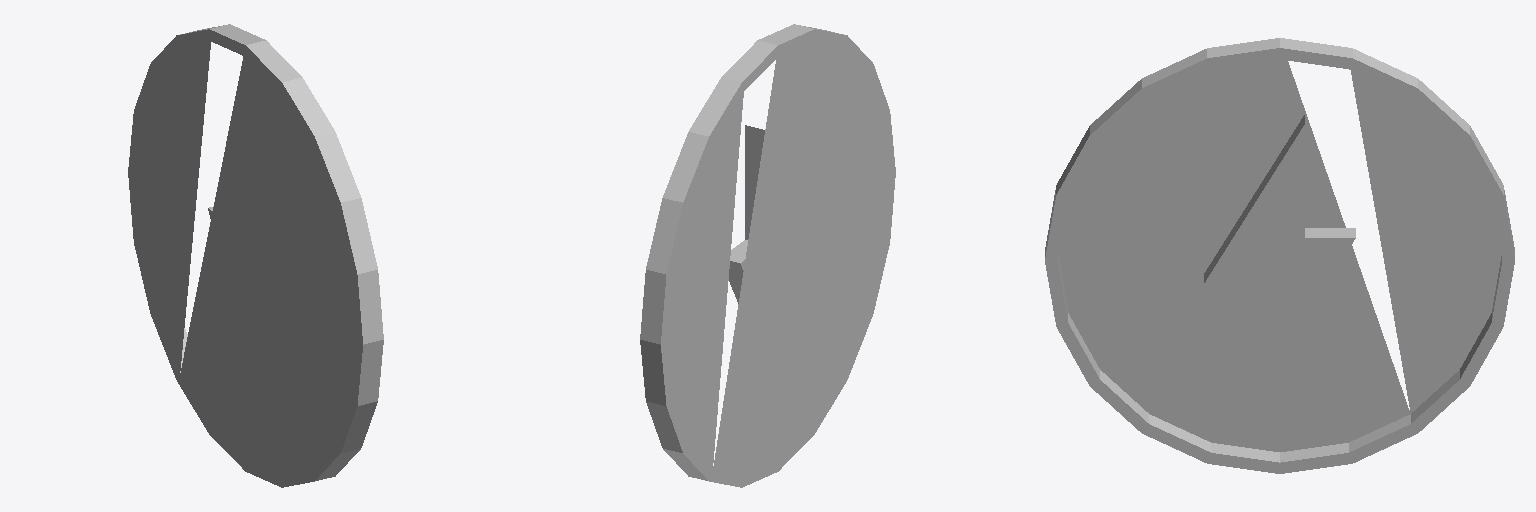
Rendered from fuel.obj.
The picture shows the model from 3 angles: view 1: azimuth 30°, elevation 25°; view 2: azimuth 150°, elevation 25°; view 3: azimuth 270°, elevation 25°; orthographic projection.
Parts seen in each view (by area): view 1: pCylinder17; view 2: pCylinder17, pCube3; view 3: pCylinder17, pCube3.
Boxes of the visible parts, <box> form: pCylinder17: <box>128,24,383,487</box>; pCylinder17: <box>640,24,895,487</box>; pCube3: <box>729,125,764,303</box>; pCylinder17: <box>1045,38,1514,473</box>; pCube3: <box>1204,115,1355,396</box>.
Bounding box in the file's own units: 8.05 × 158 × 158.